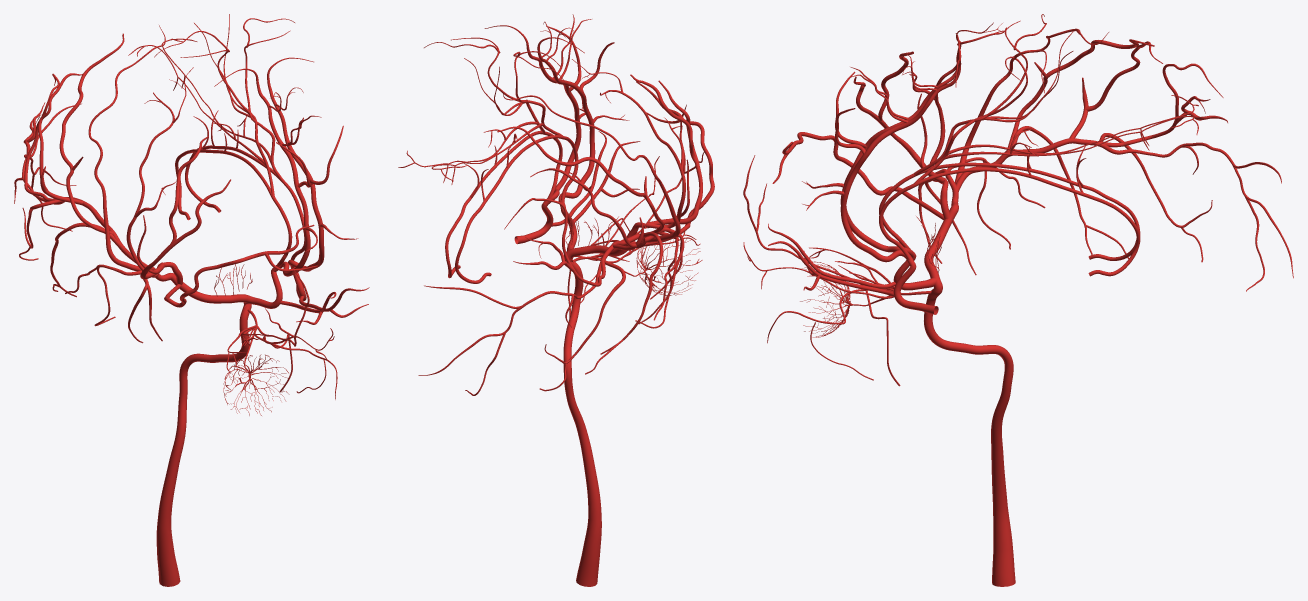
The model's file is circulatorio-internal-carotid-artery-r.glb.
The picture shows the model from 3 angles, left to right: view 1: azimuth 30°, elevation 25°; view 2: azimuth 150°, elevation 25°; view 3: azimuth 270°, elevation 25°; orthographic projection. The views are drawn at different scales.
Parts seen in each view (by area): view 1: Internal carotid artery.r, Pericallosal artery.r, Pericallosal artery.l, Callosomarginal artery.r, Callosomarginal artery.l, Prefrontal artery.r, Artery of precentral sulcus.r, Lateral frontobasal artery.r, Central retinal artery.r, Artery of central sulcus.r, Postcentral arterial branch.r, Anterior temporal branch.r (+7 smaller); view 2: Internal carotid artery.r, Pericallosal artery.r, Pericallosal artery.l, Callosomarginal artery.r, Callosomarginal artery.l, Prefrontal artery.r, Artery of precentral sulcus.r, Posterior parietal artery.r, Temporo-occipital branch.r, Anterior temporal branch.r, Artery of central sulcus.r, Postcentral arterial branch.r (+9 smaller); view 3: Internal carotid artery.r, Pericallosal artery.l, Pericallosal artery.r, Callosomarginal artery.l, Callosomarginal artery.r, Lateral frontobasal artery.r, Artery of precentral sulcus.r, Anterior temporal branch.r, Posterior parietal artery.r, Middle cerebral artery (M3-segment).r, Prefrontal artery.r, Temporo-occipital branch.r (+5 smaller).
Part boxes in pixels (left/top/right/bottom): Internal carotid artery.r: left=156, top=304, right=251, bottom=586; Pericallosal artery.r: left=128, top=23, right=292, bottom=266; Pericallosal artery.l: left=161, top=14, right=305, bottom=260; Callosomarginal artery.r: left=214, top=68, right=317, bottom=276; Callosomarginal artery.l: left=267, top=57, right=358, bottom=271; Prefrontal artery.r: left=140, top=136, right=230, bottom=279; Artery of precentral sulcus.r: left=126, top=67, right=193, bottom=277; Lateral frontobasal artery.r: left=164, top=224, right=317, bottom=307; Central retinal artery.r: left=223, top=332, right=289, bottom=415; Artery of central sulcus.r: left=88, top=25, right=165, bottom=271; Postcentral arterial branch.r: left=59, top=33, right=124, bottom=234; Anterior temporal branch.r: left=65, top=264, right=162, bottom=343; Internal carotid artery.r: left=563, top=259, right=601, bottom=586; Pericallosal artery.r: left=431, top=51, right=578, bottom=283; Pericallosal artery.l: left=398, top=37, right=562, bottom=278; Callosomarginal artery.r: left=537, top=19, right=629, bottom=208; Callosomarginal artery.l: left=484, top=14, right=585, bottom=205; Prefrontal artery.r: left=630, top=74, right=702, bottom=228; Artery of precentral sulcus.r: left=572, top=59, right=689, bottom=228; Posterior parietal artery.r: left=504, top=198, right=605, bottom=286; Temporo-occipital branch.r: left=418, top=285, right=578, bottom=395; Anterior temporal branch.r: left=635, top=227, right=684, bottom=328; Artery of central sulcus.r: left=502, top=93, right=680, bottom=242; Postcentral arterial branch.r: left=497, top=126, right=664, bottom=236; Internal carotid artery.r: left=924, top=288, right=1015, bottom=586; Pericallosal artery.l: left=879, top=50, right=1198, bottom=276; Pericallosal artery.r: left=879, top=14, right=1198, bottom=260; Callosomarginal artery.l: left=802, top=59, right=961, bottom=266; Callosomarginal artery.r: left=802, top=33, right=961, bottom=257; Lateral frontobasal artery.r: left=772, top=132, right=944, bottom=220; Artery of precentral sulcus.r: left=902, top=22, right=1006, bottom=182; Anterior temporal branch.r: left=918, top=157, right=1045, bottom=275; Posterior parietal artery.r: left=1100, top=63, right=1227, bottom=147; Middle cerebral artery (M3-segment).r: left=956, top=138, right=1167, bottom=191; Prefrontal artery.r: left=853, top=51, right=945, bottom=184; Temporo-occipital branch.r: left=1167, top=142, right=1293, bottom=291.
Size of the model in its own units: 0.1013 by 0.2149 by 0.183.
